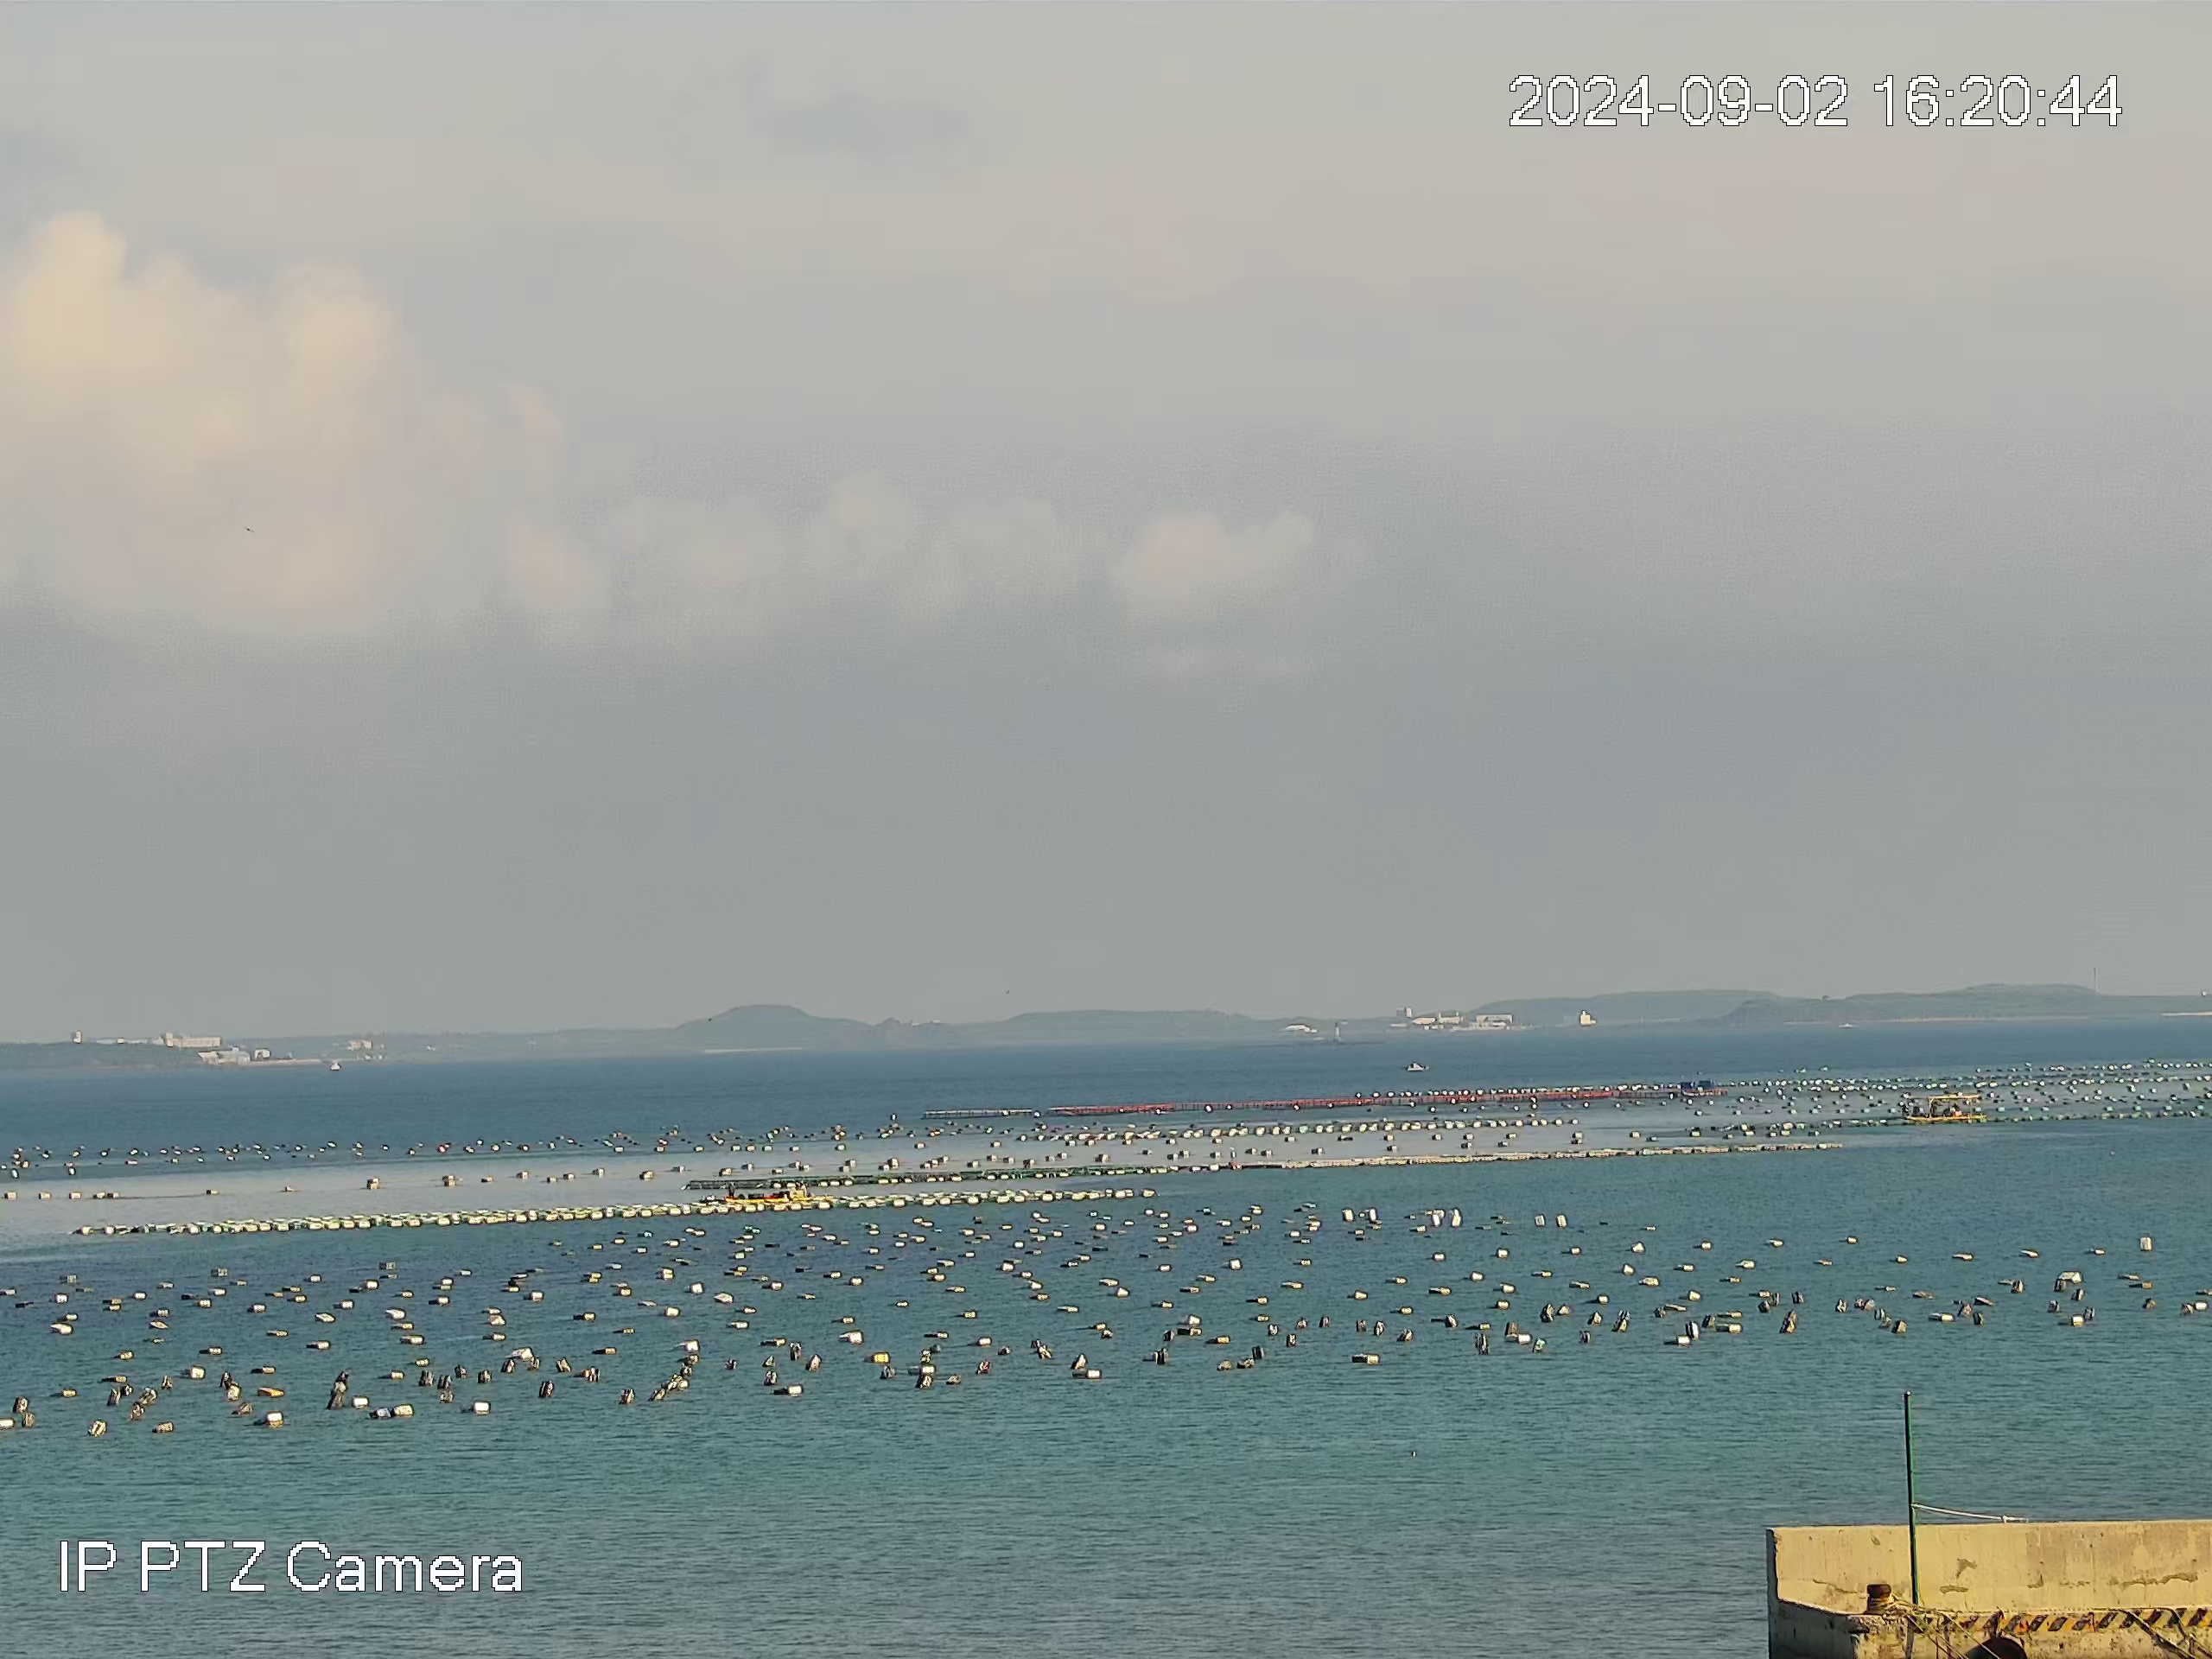boat: (1904, 1093, 1987, 1126), (721, 1180, 815, 1204), (1406, 1060, 1428, 1073)
